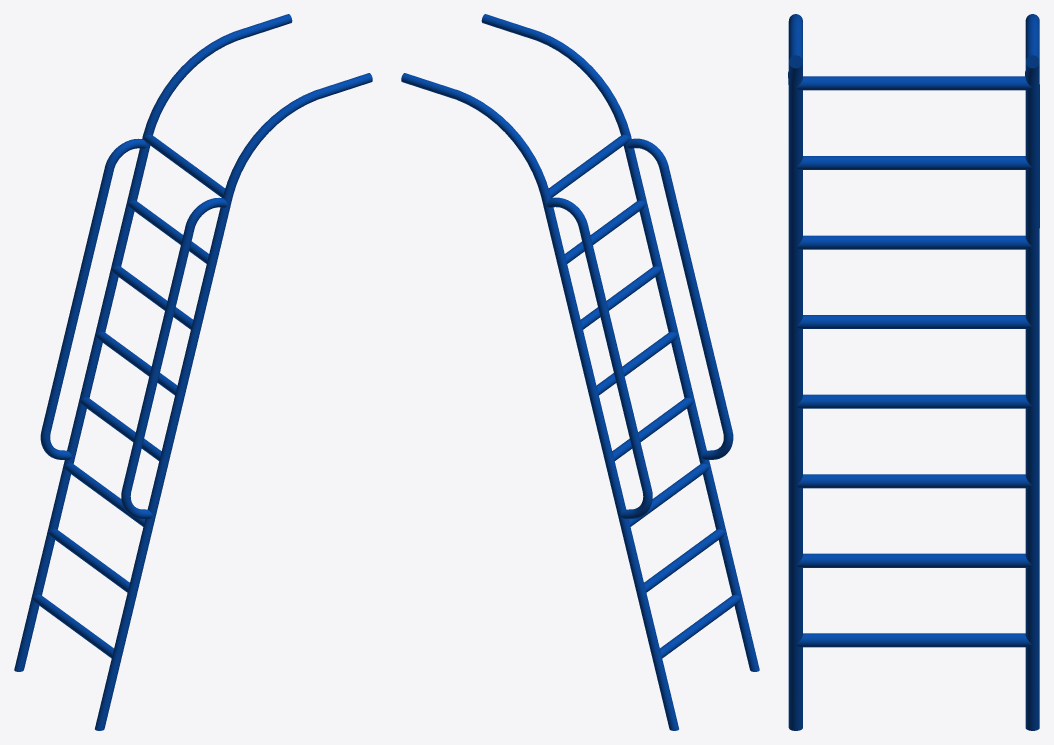
File: escaleras.dae
3 views of the same model, side by side, from view 1: azimuth 30°, elevation 25°; view 2: azimuth 150°, elevation 25°; view 3: azimuth 270°, elevation 25° (orthographic). The views are drawn at different scales.
Visible parts, largest first — view 1: Component_10 (×2), Component_6 (×2), Component_7 (×8); view 2: Component_10 (×2), Component_6 (×2), Component_7 (×8); view 3: Component_7 (×8), Component_10 (×2).
Boxes of the visible parts, x1,y1,x2,y2 form: Component_10 (×2): (14, 14, 372, 730); Component_6 (×2): (40, 138, 227, 518); Component_7 (×8): (32, 134, 225, 658); Component_10 (×2): (401, 14, 759, 730); Component_6 (×2): (546, 138, 733, 518); Component_7 (×8): (548, 134, 741, 658); Component_7 (×8): (796, 76, 1032, 647); Component_10 (×2): (788, 14, 1039, 730).
Bounding box in the file's own units: 41.61 × 22.43 × 85.15.
